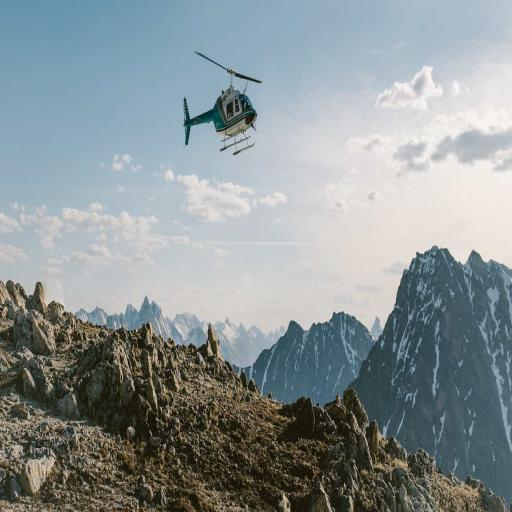helicopter: (182, 45, 262, 163)
